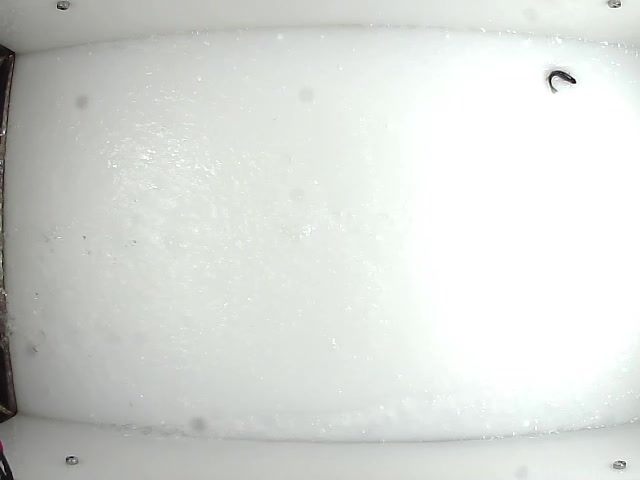fish: (547, 67, 578, 95)
